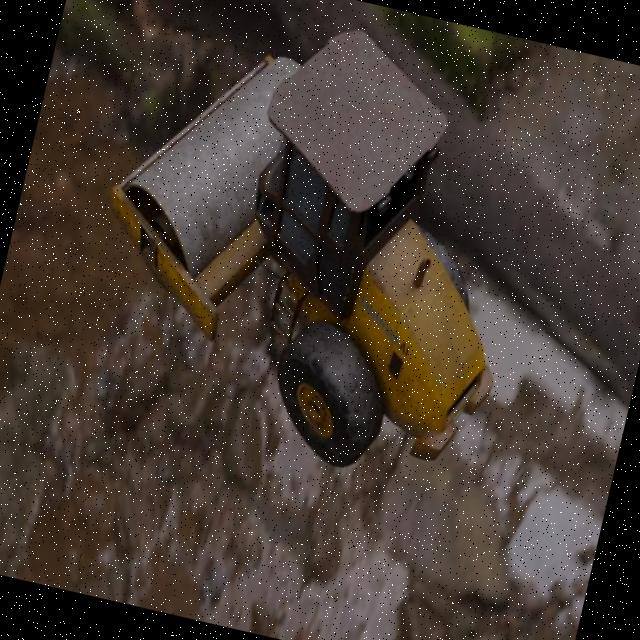Roller: (61, 0, 564, 496)
